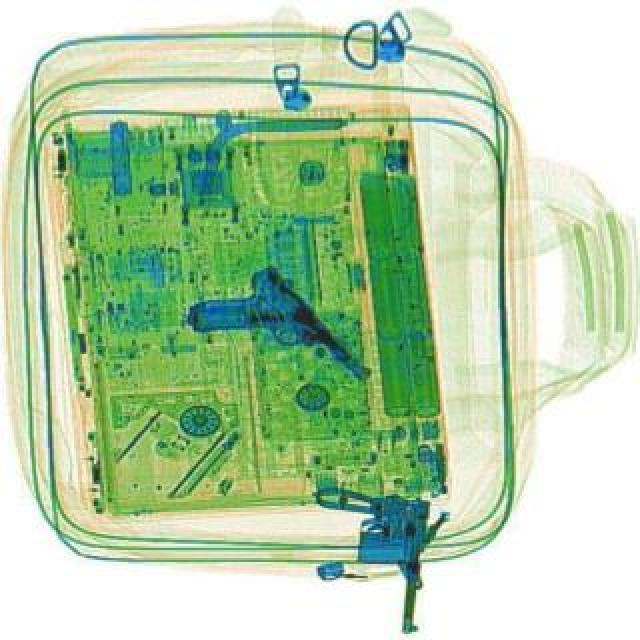gun: (178, 250, 374, 434), (296, 482, 432, 636)
